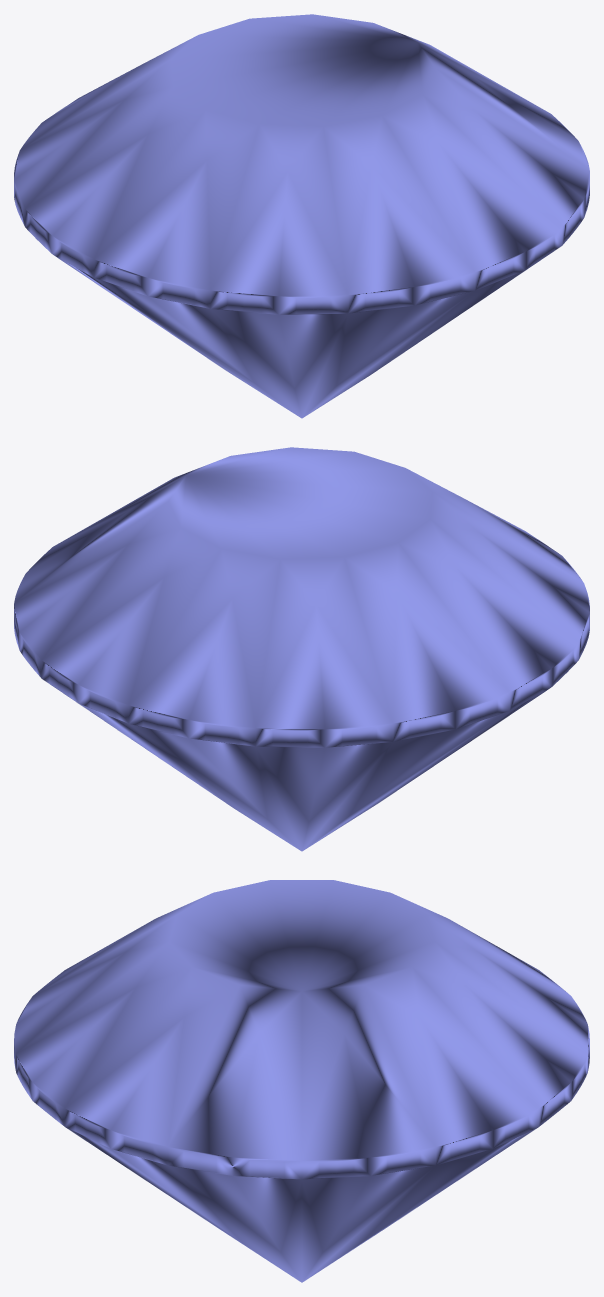
Rendered from diamond.fbx.
3 views of the same model, one above another, from view 1: azimuth 30°, elevation 25°; view 2: azimuth 150°, elevation 25°; view 3: azimuth 270°, elevation 25° (orthographic).
Visible parts, largest first — view 1: dobj; view 2: dobj; view 3: dobj.
Part boxes in pixels (box(x1,y1,x2,y2)): dobj: box(14, 14, 589, 418); dobj: box(14, 447, 589, 851); dobj: box(14, 880, 589, 1282).
Size of the model in its own units: 200 by 133 by 200.
